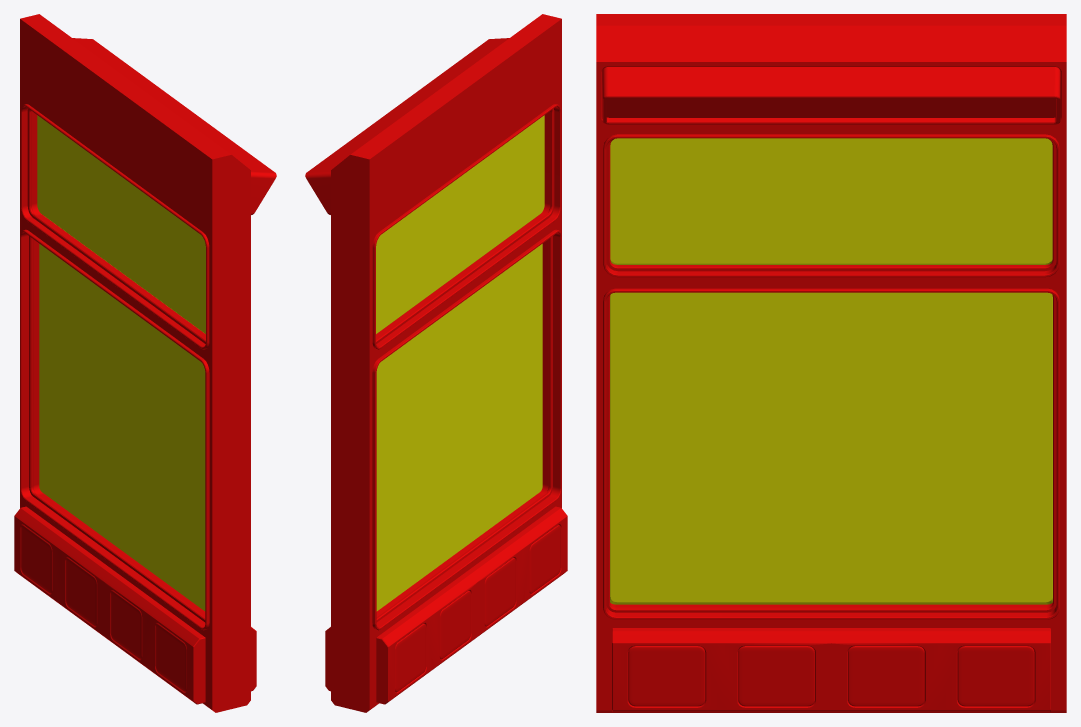
The model's file is Wall_10.fbx.
3 views of the same model, side by side, from view 1: azimuth 30°, elevation 25°; view 2: azimuth 150°, elevation 25°; view 3: azimuth 270°, elevation 25° (orthographic). The views are drawn at different scales.
Visible parts, largest first — view 1: polySurface4; view 2: polySurface4; view 3: polySurface4.
Boxes of the visible parts, x1,y1,x2,y2 form: polySurface4: (14, 14, 276, 712); polySurface4: (305, 14, 567, 712); polySurface4: (596, 14, 1066, 712).
Bounding box in the file's own units: 115 × 751 × 472.
